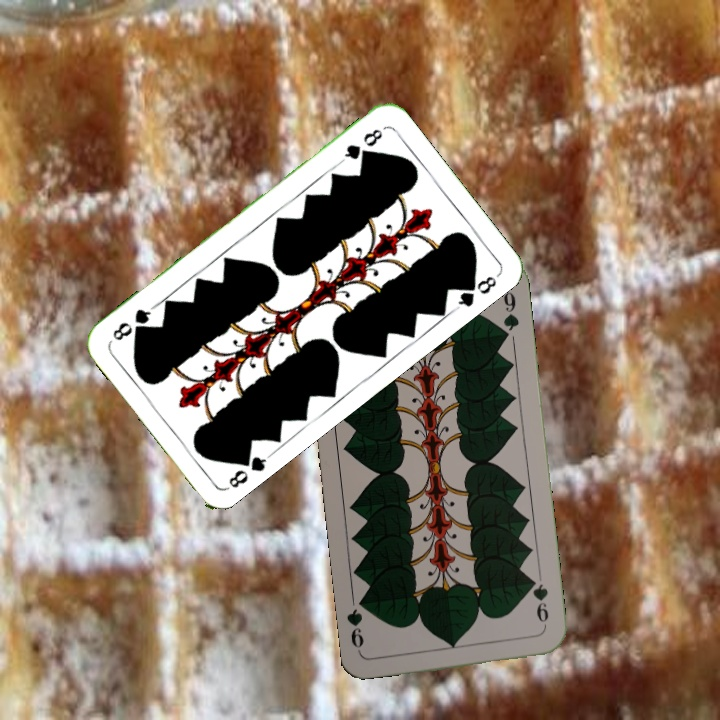G8: (223, 447, 274, 492), (337, 124, 386, 165)
G9: (526, 574, 551, 633)
